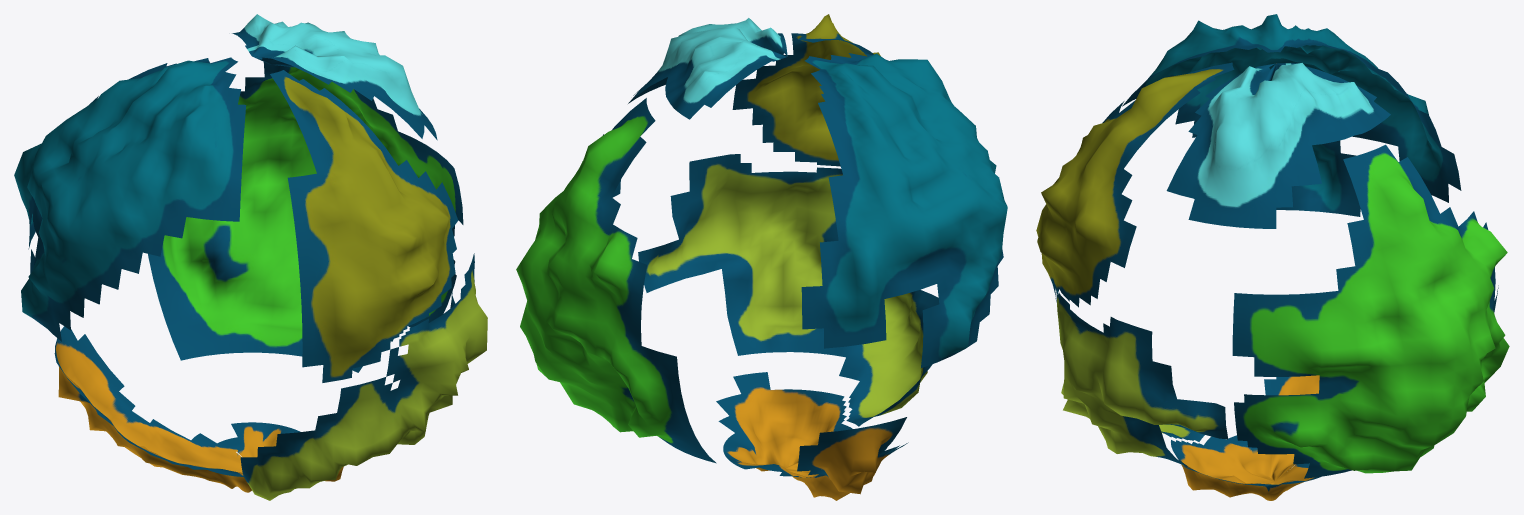
The model's file is seperatecontinents.fbx.
The picture shows the model from 3 angles, left to right: view 1: azimuth 30°, elevation 25°; view 2: azimuth 150°, elevation 25°; view 3: azimuth 270°, elevation 25°; orthographic projection.
Visible parts, largest first — view 1: 3Dworld1_001, 3Dworld1_002, 3Dworld1_005, 3Dworld1_003, 3Dworld1_004, 3Dworld1_006; view 2: 3Dworld1_001, 3Dworld1_003, 3Dworld1_005, 3Dworld1_004, 3Dworld1_002, 3Dworld1_006; view 3: 3Dworld1_005, 3Dworld1_006, 3Dworld1_001, 3Dworld1_002, 3Dworld1_003, 3Dworld1_004.
Part boxes in pixels (left/top/right/bottom): 3Dworld1_001: left=14, top=57, right=246, bottom=341; 3Dworld1_002: left=270, top=70, right=458, bottom=382; 3Dworld1_005: left=148, top=62, right=463, bottom=372; 3Dworld1_003: left=240, top=253, right=487, bottom=500; 3Dworld1_004: left=54, top=326, right=343, bottom=492; 3Dworld1_006: left=232, top=14, right=437, bottom=140; 3Dworld1_001: left=801, top=53, right=1007, bottom=367; 3Dworld1_003: left=638, top=154, right=939, bottom=426; 3Dworld1_005: left=516, top=98, right=716, bottom=463; 3Dworld1_004: left=716, top=372, right=908, bottom=500; 3Dworld1_002: left=732, top=14, right=880, bottom=166; 3Dworld1_006: left=628, top=18, right=787, bottom=119; 3Dworld1_005: left=1232, top=144, right=1509, bottom=478; 3Dworld1_006: left=1166, top=63, right=1390, bottom=228; 3Dworld1_001: left=1122, top=14, right=1461, bottom=216; 3Dworld1_002: left=1036, top=62, right=1234, bottom=307; 3Dworld1_003: left=1056, top=292, right=1228, bottom=465; 3Dworld1_004: left=1171, top=375, right=1320, bottom=500.
Size of the model in its own units: 2.15 by 2.18 by 2.12.
